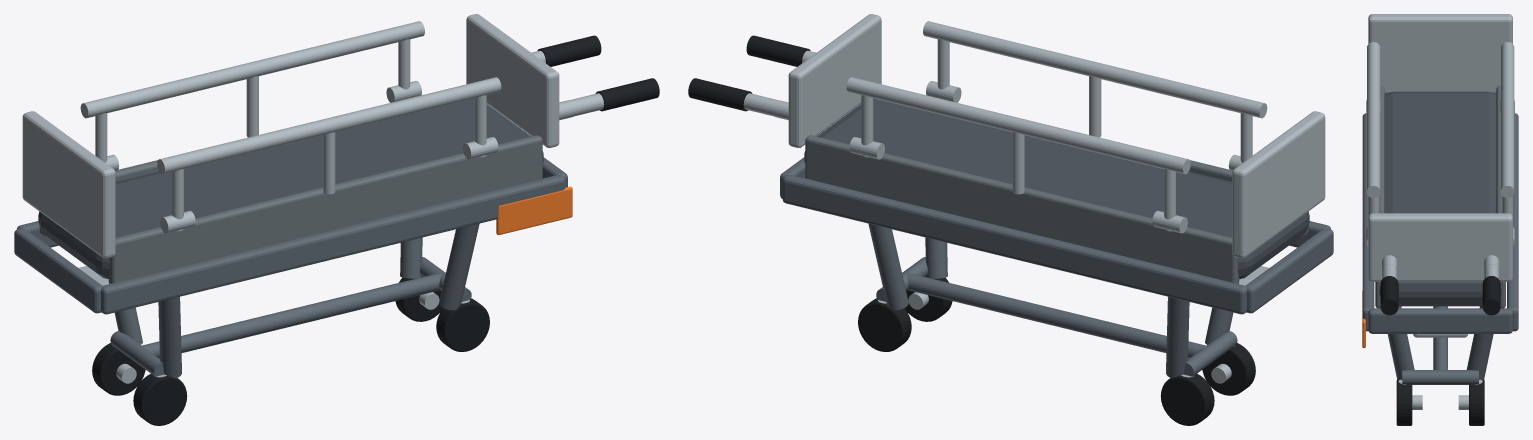
Rendered from ambulance_stretcher_current_2part.fbx.
3 views of the same model, side by side, from view 1: azimuth 30°, elevation 25°; view 2: azimuth 150°, elevation 25°; view 3: azimuth 270°, elevation 25° (orthographic). The views are drawn at different scales.
Parts seen in each view (by area): view 1: Stretcher_Other, Stretcher_Headboard; view 2: Stretcher_Other, Stretcher_Headboard; view 3: Stretcher_Other, Stretcher_Headboard.
Part boxes in pixels (bbox=[...]): Stretcher_Other: bbox=[14, 14, 659, 425]; Stretcher_Headboard: bbox=[22, 111, 115, 258]; Stretcher_Other: bbox=[688, 14, 1333, 425]; Stretcher_Headboard: bbox=[1232, 111, 1325, 258]; Stretcher_Other: bbox=[1362, 42, 1518, 425]; Stretcher_Headboard: bbox=[1368, 14, 1512, 93].
Bounding box in the file's own units: 272 × 129 × 73.65.
2 materials, 2 textured.
